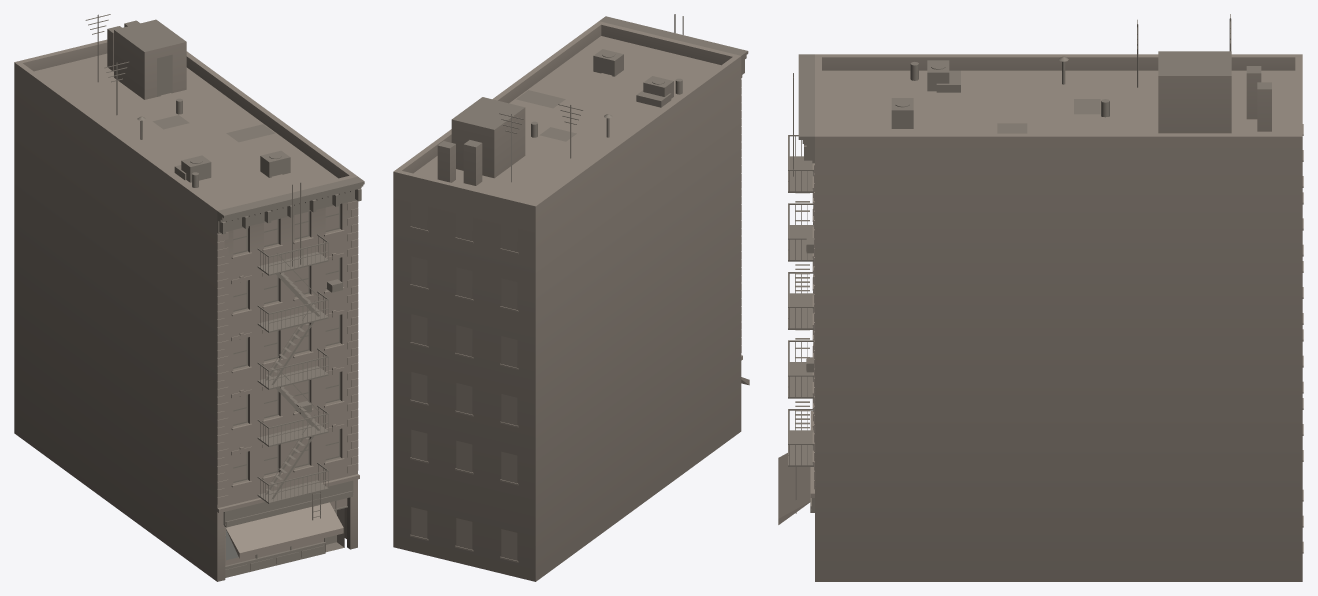
The model's file is tenement_k.glb.
3 views of the same model, side by side, from view 1: azimuth 30°, elevation 25°; view 2: azimuth 150°, elevation 25°; view 3: azimuth 270°, elevation 25° (orthographic). The views are drawn at different scales.
Visible parts, largest first — view 1: tenement_k; view 2: tenement_k; view 3: tenement_k.
Boxes of the visible parts, <box> form: tenement_k: <box>14,14,364,581</box>; tenement_k: <box>393,14,749,581</box>; tenement_k: <box>778,14,1303,581</box>.
Size of the model in its own units: 8 by 23.2 by 21.55.
